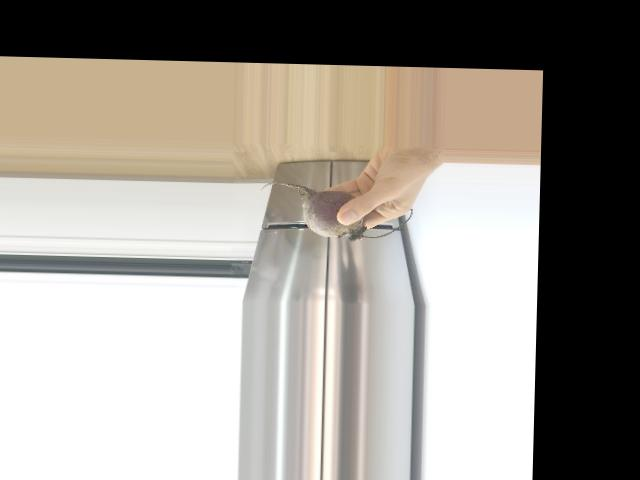beet: (258, 181, 412, 242)
